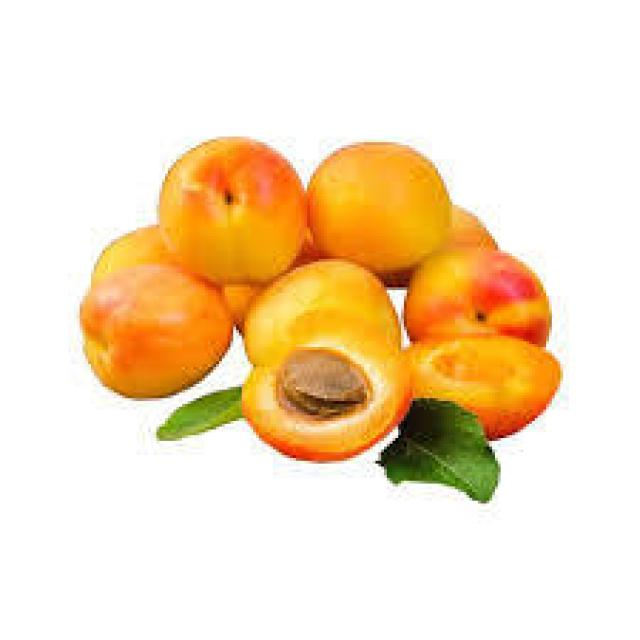cekirdek: (268, 346, 376, 430)
kayisi: (227, 308, 418, 473), (149, 124, 309, 288), (73, 252, 229, 407), (301, 133, 461, 278)
yaprak: (371, 391, 508, 514)
